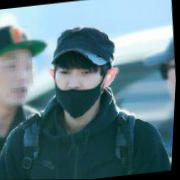WRONG: (52, 52, 110, 119)
